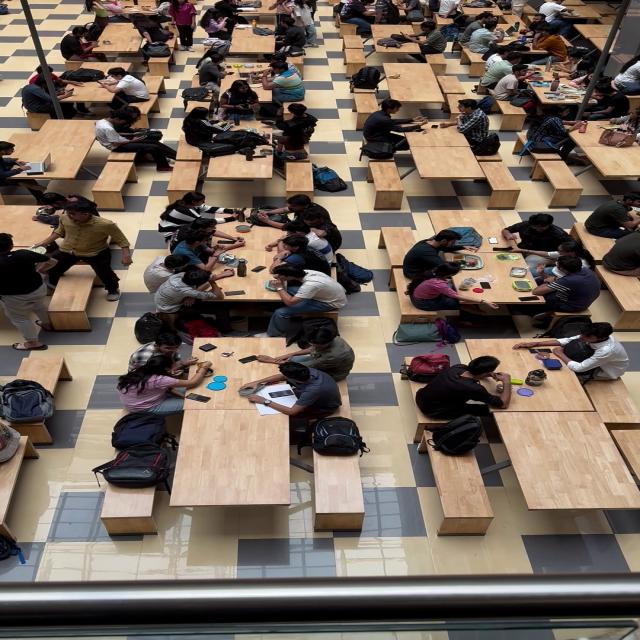Occupied: (125, 328, 382, 413), (409, 329, 640, 418), (427, 218, 612, 324), (0, 202, 133, 349), (170, 102, 326, 156), (484, 62, 640, 111), (445, 7, 580, 63), (16, 57, 157, 110), (46, 13, 198, 62), (107, 407, 184, 493), (522, 107, 640, 153), (589, 196, 640, 275), (316, 0, 448, 30), (190, 4, 234, 50), (273, 18, 315, 62)
Unoccupied: (395, 132, 498, 184), (32, 115, 95, 178), (380, 59, 452, 110), (97, 489, 168, 534), (579, 151, 640, 183), (571, 18, 621, 52), (210, 160, 283, 181), (226, 34, 283, 57), (611, 276, 640, 314), (340, 27, 359, 47)
